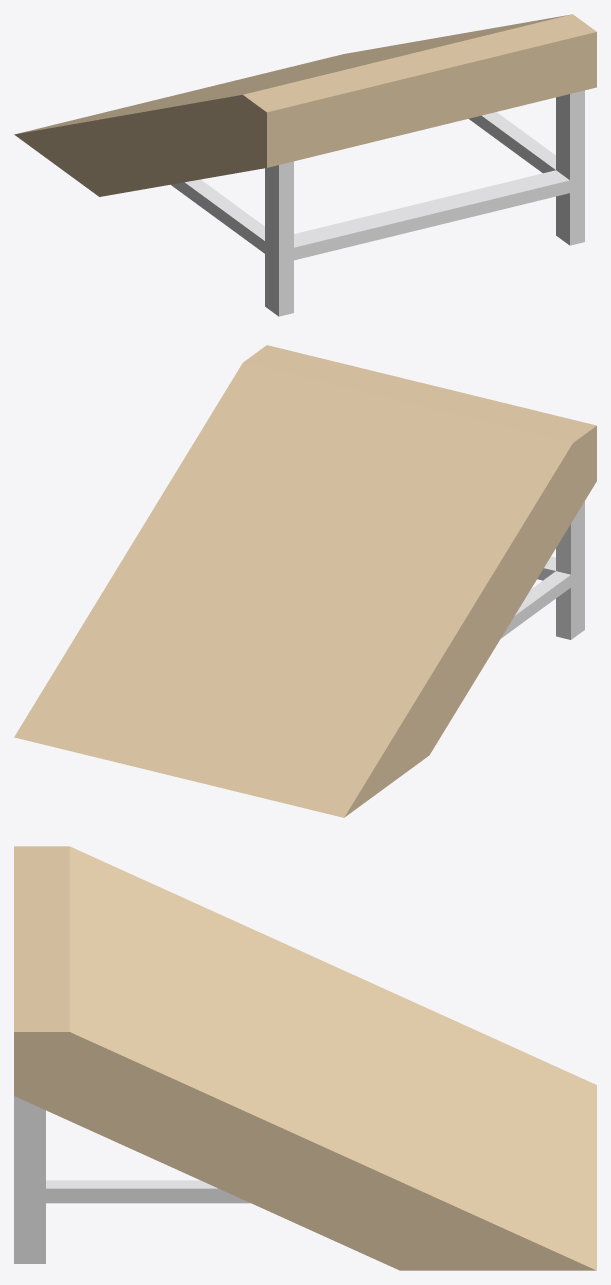
Rendered from ramp.glb.
3 renders of one model, top to bottom at view 1: azimuth 30°, elevation 25°; view 2: azimuth 150°, elevation 25°; view 3: azimuth 270°, elevation 25°, orthographic. The views are drawn at different scales.
Parts seen in each view (by area): view 1: ramp; view 2: ramp; view 3: ramp.
Part boxes in pixels (box(x1,y1,x2,y2)): ramp: box(14, 14, 596, 316); ramp: box(14, 345, 596, 817); ramp: box(14, 846, 596, 1270).
Size of the model in its own units: 0.55 by 0.33 by 0.73.
